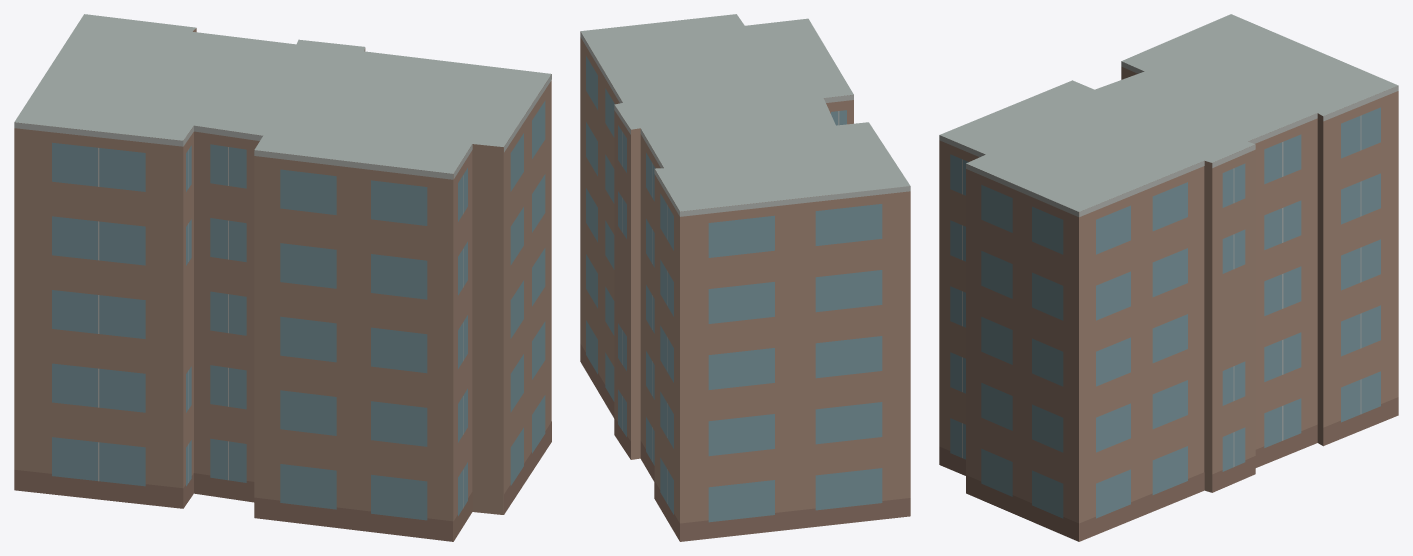
Rendered from survey-upis-32984713.glb.
The picture shows the model from 3 angles, left to right: view 1: azimuth 30°, elevation 25°; view 2: azimuth 150°, elevation 25°; view 3: azimuth 270°, elevation 25°; orthographic projection. The views are drawn at different scales.
Parts seen in each view (by area): view 1: survey-upis-32984713.tmp; view 2: survey-upis-32984713.tmp; view 3: survey-upis-32984713.tmp.
Boxes of the visible parts, box(x1,y1,x2,y2) form: survey-upis-32984713.tmp: box(14, 14, 551, 541); survey-upis-32984713.tmp: box(580, 14, 910, 541); survey-upis-32984713.tmp: box(939, 14, 1398, 541).
Size of the model in its own units: 19.64 by 15.25 by 19.25.
